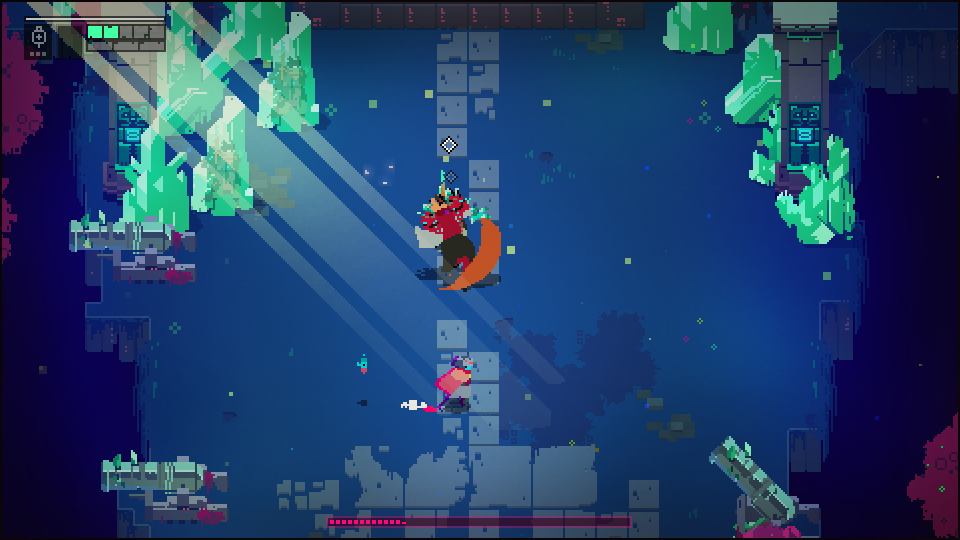hanged_man: (410, 180, 495, 282)
player: (436, 352, 474, 410)
